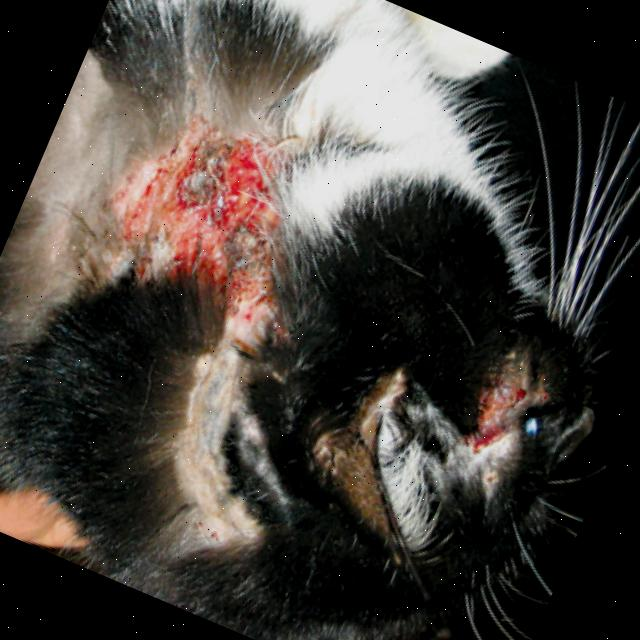cat-ringworm: (101, 108, 326, 334), (454, 358, 536, 470)
